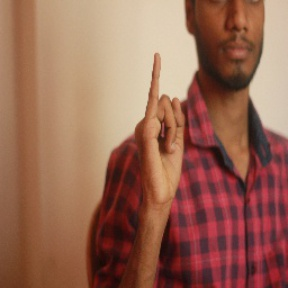I: (133, 50, 190, 194)
